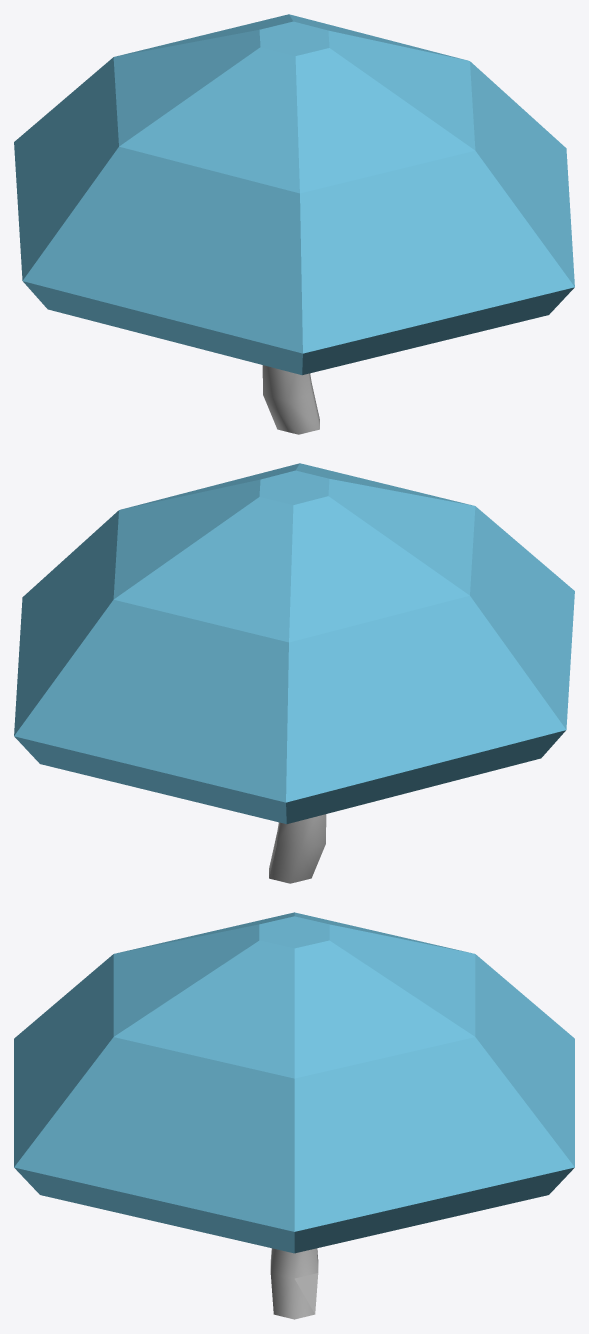
The model's file is Hongo_1.fbx.
3 renders of one model, top to bottom at view 1: azimuth 30°, elevation 25°; view 2: azimuth 150°, elevation 25°; view 3: azimuth 270°, elevation 25°, orthographic. The views are drawn at different scales.
Visible parts, largest first — view 1: Hongo_1; view 2: Hongo_1; view 3: Hongo_1.
Part boxes in pixels (x1,y1,x2,y2): Hongo_1: [14, 14, 574, 434]; Hongo_1: [14, 463, 574, 883]; Hongo_1: [14, 912, 574, 1319].
Size of the model in its own units: 37.86 by 25.71 by 34.84.
